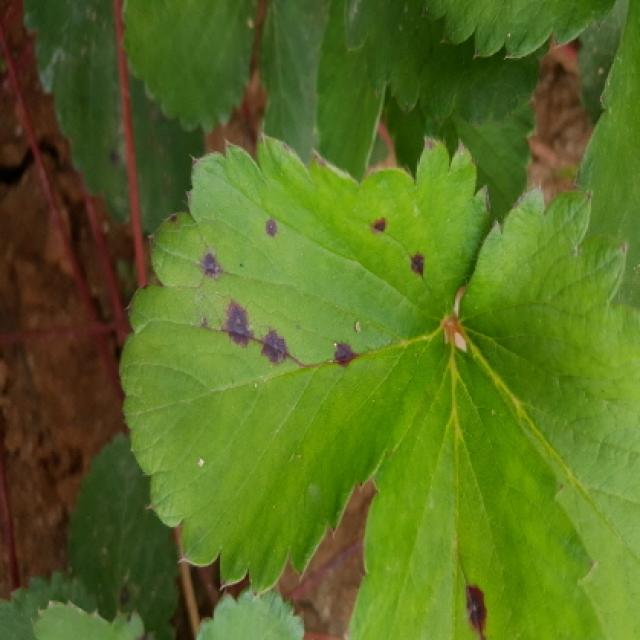Leaf Spot: (119, 132, 493, 597), (344, 327, 608, 638), (20, 0, 205, 234), (66, 428, 183, 638)
